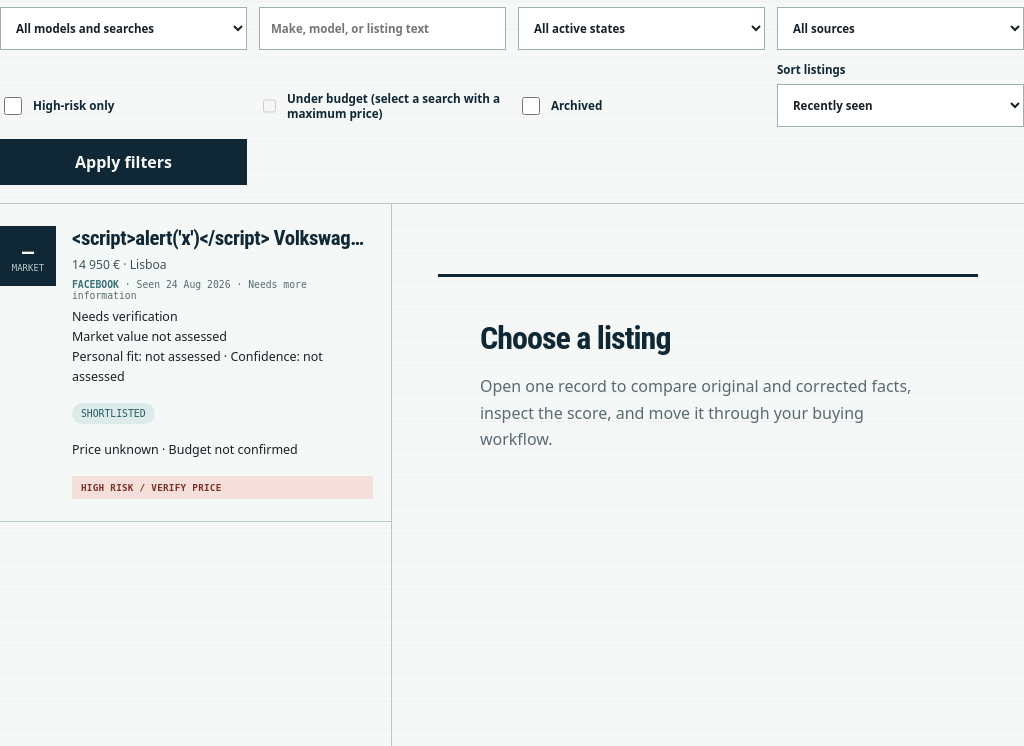
Test: listing review dashboard › explains missing hard facts without presenting a filter failure
The image size is (1024, 746).
(page scrolled)
Expected: the text "Facebook · Seen 24 Aug 2026 · Needs more information" is shown, 72,279 -> 307,301
Click the button with aria-label "Review <script>alert('x')</script> Volkswagen Golf" at (195, 363), box 0,204 -> 391,521
(page scrolled)
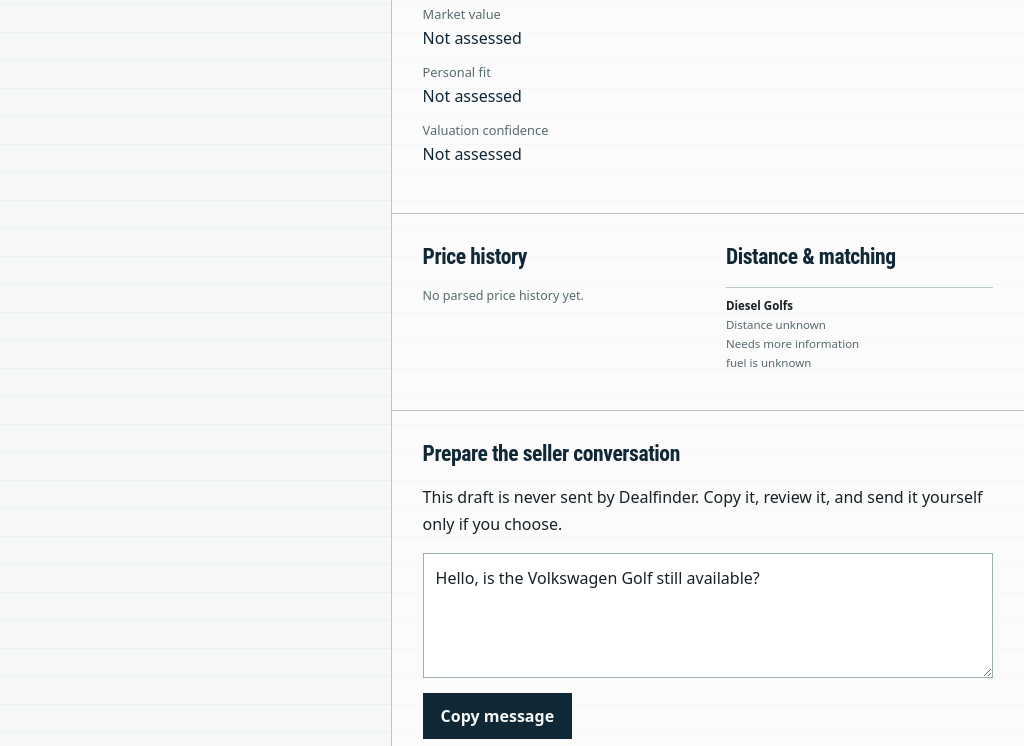
Expected: the text "fuel is unknown" is shown, 726,355 -> 811,370
